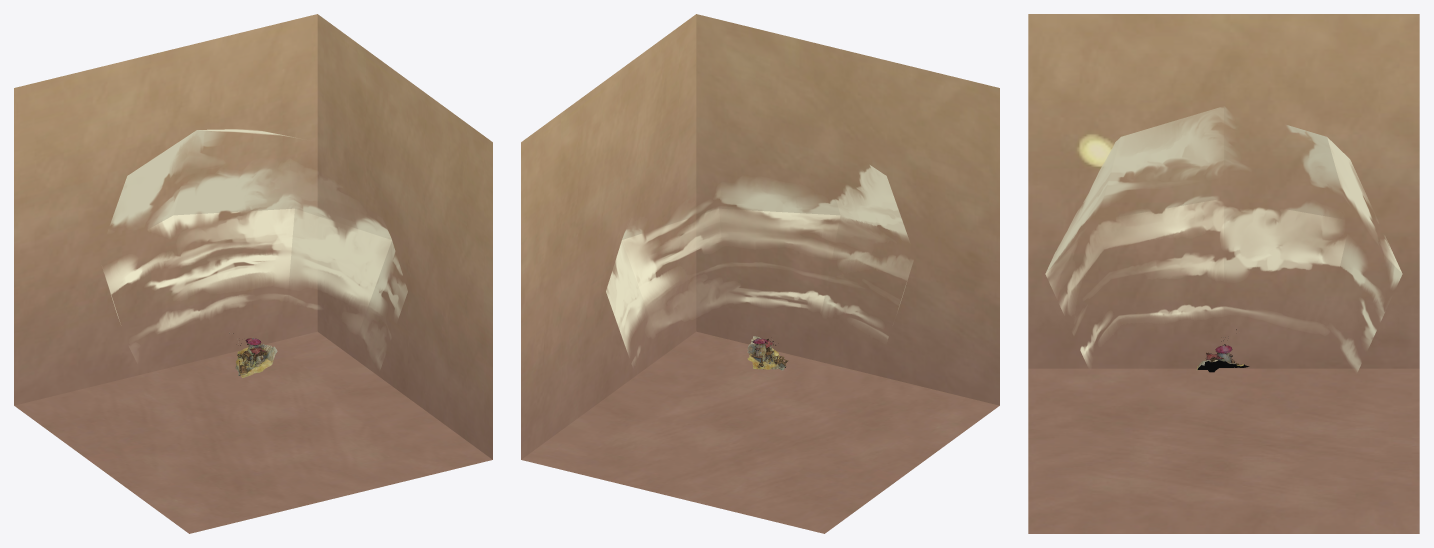
File: hiih.glb
3 renders of one model, left to right at view 1: azimuth 30°, elevation 25°; view 2: azimuth 150°, elevation 25°; view 3: azimuth 270°, elevation 25°, orthographic. The views are drawn at different scales.
Parts seen in each view (by area): view 1: skybox, clouds, wm; view 2: skybox, clouds, wm; view 3: skybox, clouds.
Part boxes in pixels (x1,y1,x2,y2): skybox: (14,14,492,533); clouds: (103,129,407,368); wm: (229,333,277,377); skybox: (521,14,999,533); clouds: (606,165,912,364); wm: (747,336,787,370); skybox: (1028,14,1419,533); clouds: (1045,107,1402,371).
Size of the model in its own units: 66.34 by 66.34 by 66.34.
5 materials, 4 textured.
